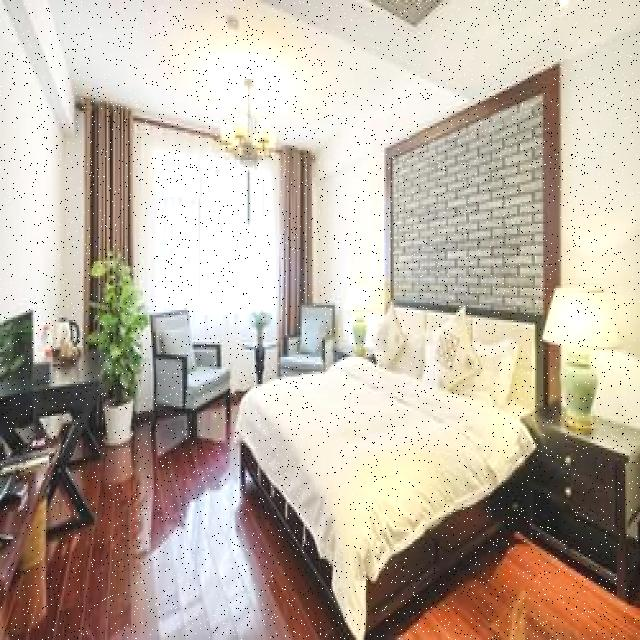bed: (221, 288, 535, 549)
